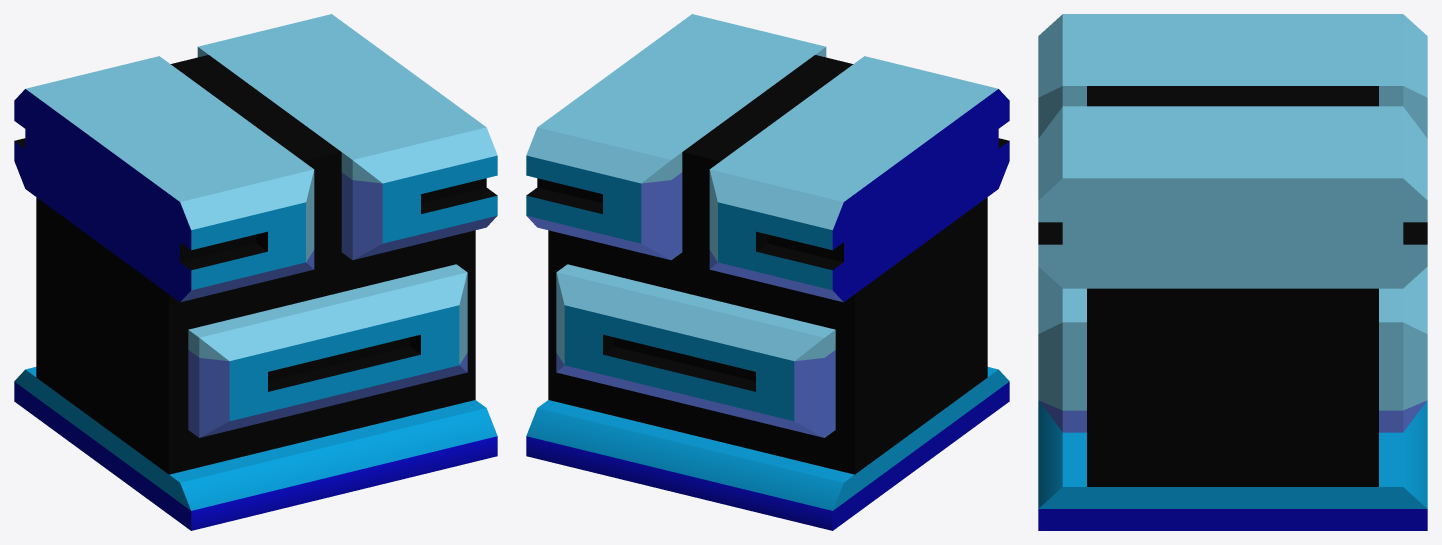
The model's file is br-m-tile-blue.fbx.
The picture shows the model from 3 angles, left to right: view 1: azimuth 30°, elevation 25°; view 2: azimuth 150°, elevation 25°; view 3: azimuth 270°, elevation 25°; orthographic projection. The views are drawn at different scales.
Visible parts, largest first — view 1: tile_blue4; view 2: tile_blue4; view 3: tile_blue4.
Boxes of the visible parts, bbox=[...] form: tile_blue4: bbox=[14, 14, 497, 530]; tile_blue4: bbox=[526, 14, 1009, 530]; tile_blue4: bbox=[1038, 14, 1427, 530].
Bounding box in the file's own units: 1 × 1 × 1.
